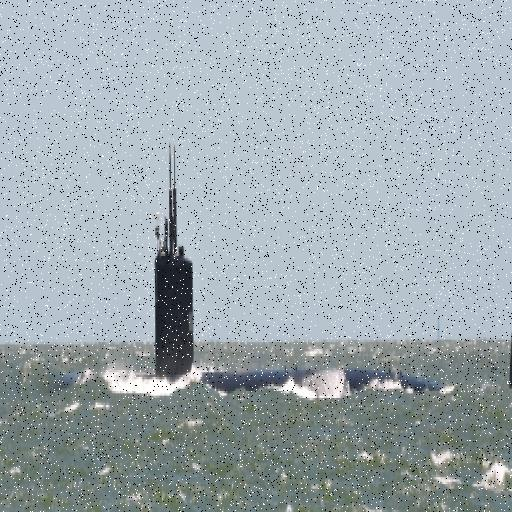submarine: (51, 150, 451, 413)
